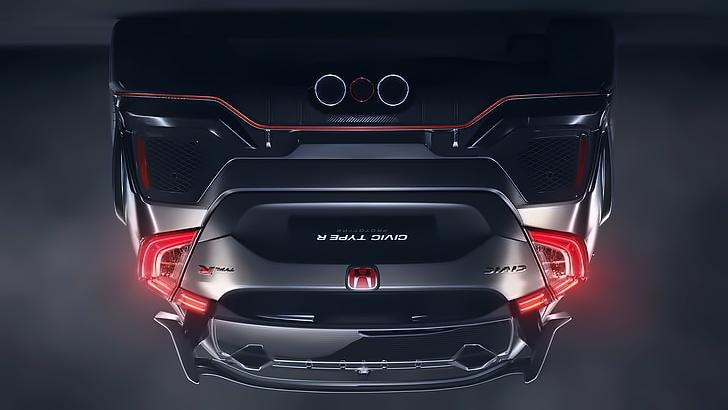Car boot: (171, 184, 554, 309)
Rear bumper: (100, 38, 619, 215)
Rear light - -L-: (507, 218, 589, 318)
Rear light - -R-: (133, 228, 219, 316)
